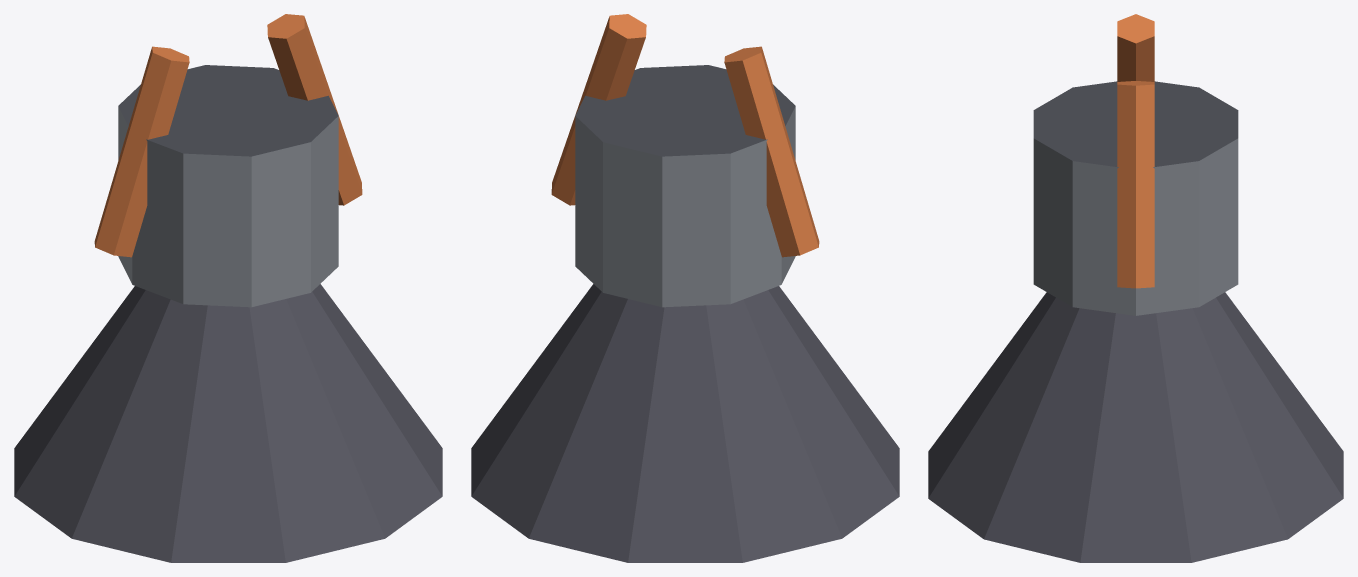
Rendered from thruster_assembly.glb.
3 views of the same model, side by side, from view 1: azimuth 30°, elevation 25°; view 2: azimuth 150°, elevation 25°; view 3: azimuth 270°, elevation 25° (orthographic). The views are drawn at different scales.
Parts seen in each view (by area): view 1: thruster_assembly; view 2: thruster_assembly; view 3: thruster_assembly.
Boxes of the visible parts, left/top/right/bottom form: thruster_assembly: left=14, top=14, right=442, bottom=562; thruster_assembly: left=471, top=14, right=899, bottom=562; thruster_assembly: left=928, top=14, right=1343, bottom=562.
Bounding box in the file's own units: 0.7728 × 0.8726 × 0.7728.
